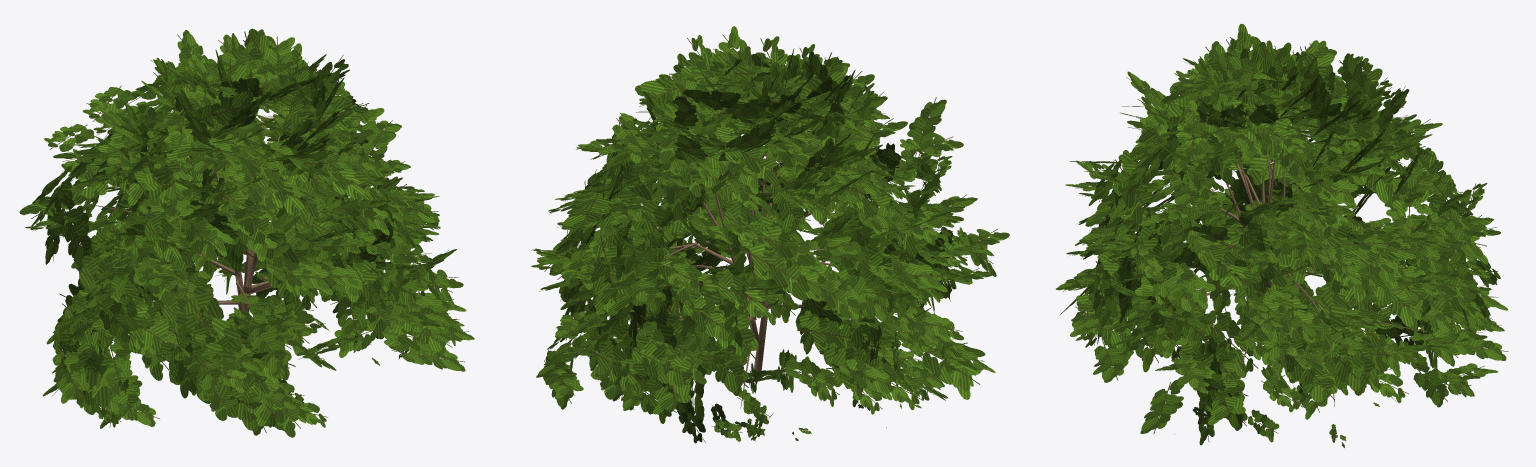
Rendered from near.glb.
3 renders of one model, left to right at view 1: azimuth 30°, elevation 25°; view 2: azimuth 150°, elevation 25°; view 3: azimuth 270°, elevation 25°, orthographic. The views are drawn at different scales.
Visible parts, largest first — view 1: foliage, bark; view 2: foliage, bark; view 3: foliage, bark.
Boxes of the visible parts, x1,y1,x2,y2 form: foliage: (19, 28, 474, 437); bark: (87, 115, 328, 312); foliage: (531, 26, 1009, 443); bark: (614, 124, 846, 408); foliage: (1056, 23, 1508, 447); bark: (1132, 149, 1442, 406).
Size of the model in its own units: 13.25 by 9.5 by 12.84.
Materials: 2 (1 with a texture image).
